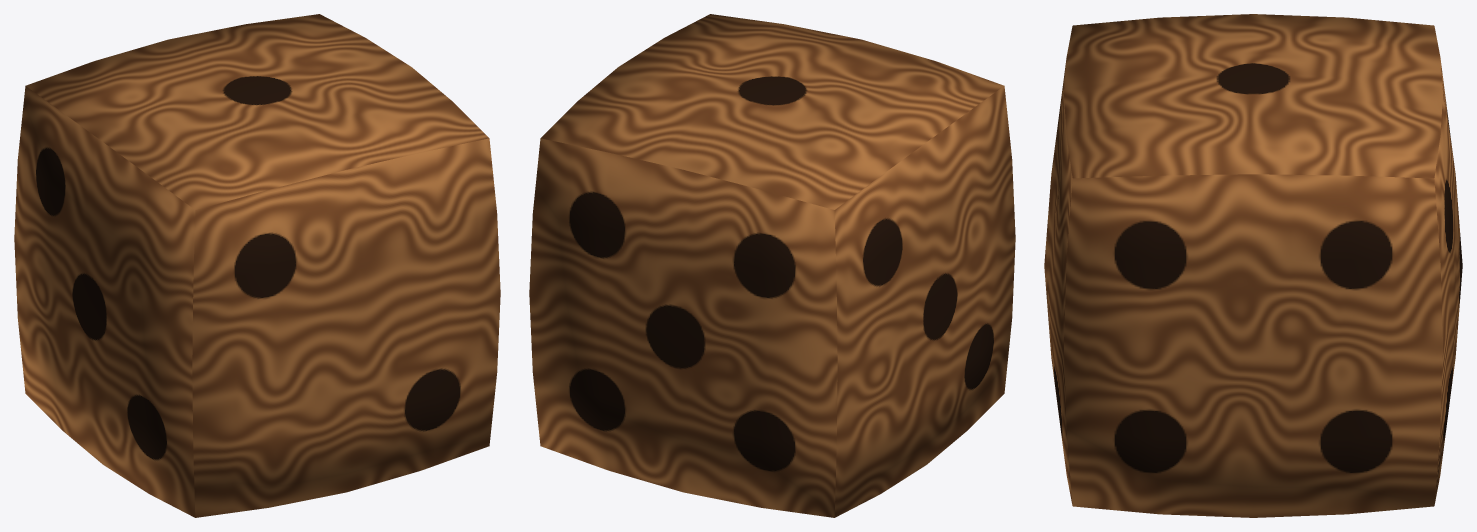
The model's file is Die_Middle.fbx.
3 renders of one model, left to right at view 1: azimuth 30°, elevation 25°; view 2: azimuth 150°, elevation 25°; view 3: azimuth 270°, elevation 25°, orthographic. The views are drawn at different scales.
Parts seen in each view (by area): view 1: Die_Middle; view 2: Die_Middle; view 3: Die_Middle.
Boxes of the visible parts, x1,y1,x2,y2 form: Die_Middle: (14, 14, 500, 517); Die_Middle: (529, 14, 1015, 517); Die_Middle: (1044, 14, 1462, 517).
Bounding box in the file's own units: 0.3 × 0.3 × 0.3.
Materials: 1 (1 with a texture image).
